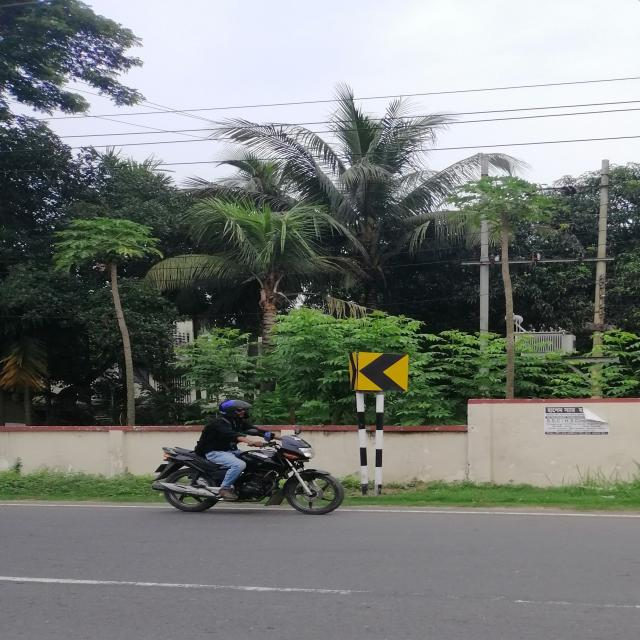Motorbike: (154, 439, 350, 523)
